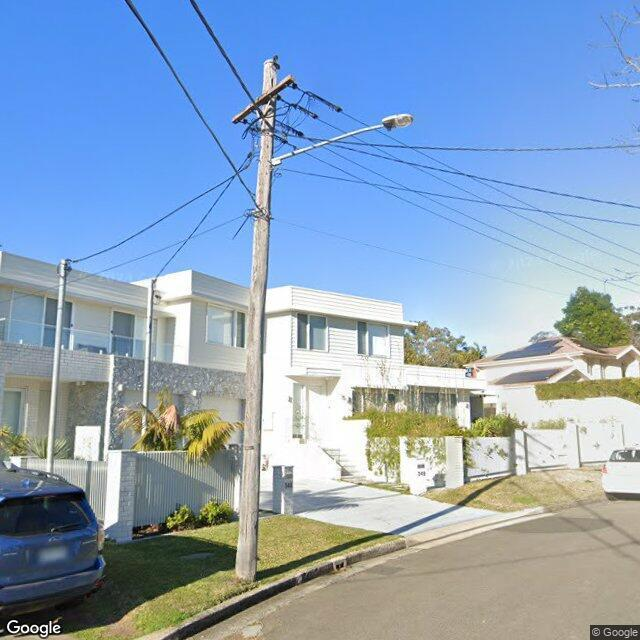crossarm: (230, 73, 296, 124)
steel-pole: (45, 256, 68, 474), (140, 279, 156, 435)
streetlight: (272, 113, 414, 172)
timber-pole: (236, 56, 279, 580)
